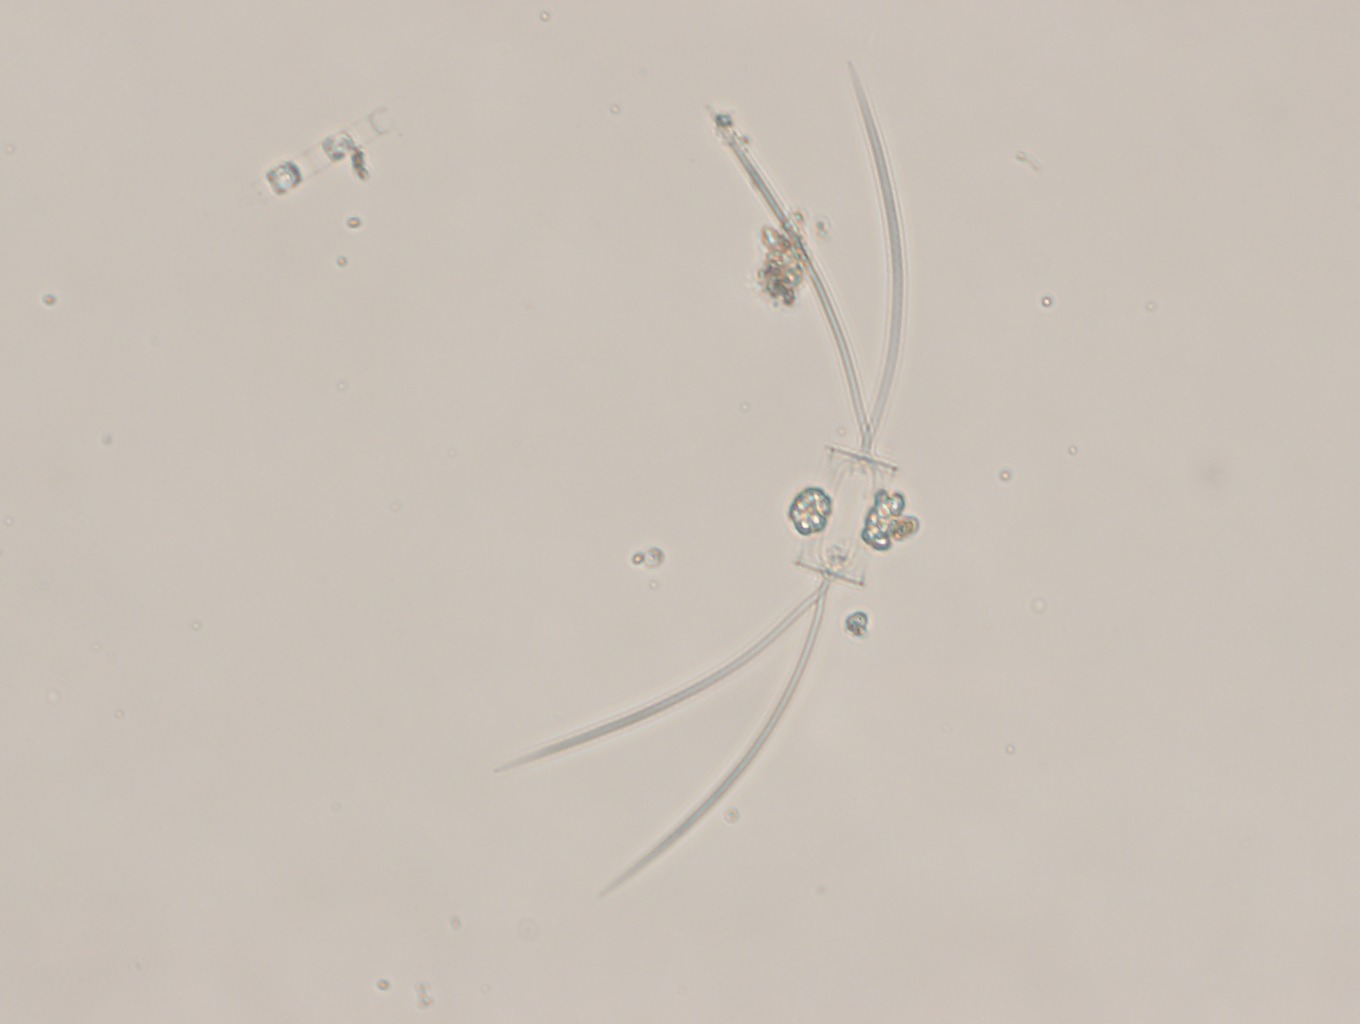chaetoceros: (498, 51, 926, 904)
skeletonema: (240, 90, 401, 212)
